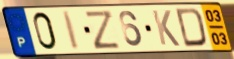0: (32, 11, 60, 53)
6: (118, 10, 144, 49)
D: (174, 6, 209, 48)
I: (61, 10, 82, 51)
K: (150, 9, 182, 48)
Z: (83, 9, 122, 51)
